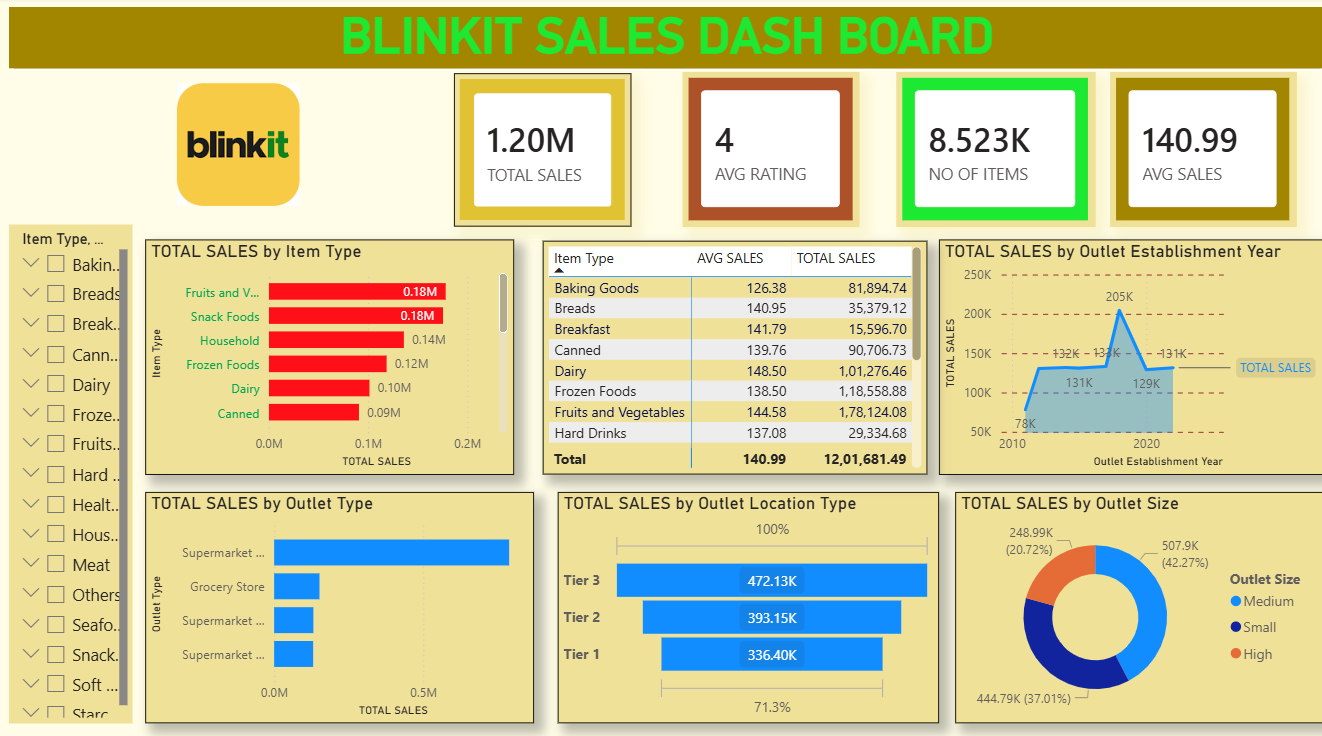

The dashboard page shown, as its layout file describes it:
{"tool":"powerbi","page":{"name":"Page 1","canvas":[1280,720],"ordinal":0},"visuals":[{"type":"textbox","title":" BLINKIT SALES DASH  BOARD","box":[9.7,9.7,1270.4,61.5],"z":0},{"type":"image","box":[22.9,83.2,416.2,118.2],"z":1000},{"type":"cardVisual","fields":{"Data":["BlinkIT Grocery Data.AVG SALES"]},"box":[1072.5,72.4,179.8,149.6],"z":2000},{"type":"cardVisual","fields":{"Data":["BlinkIT Grocery Data.AVG RATING"]},"box":[659.9,72.4,170.1,149.6],"z":3000},{"type":"cardVisual","fields":{"Data":["BlinkIT Grocery Data.NO OF ITEMS"]},"box":[866.2,72.4,191.8,149.6],"z":4000},{"type":"cardVisual","fields":{"Data":["BlinkIT Grocery Data.TOTAL SALES"]},"box":[439.1,73.6,171.3,148.4],"z":5000},{"type":"clusteredBarChart","fields":{"Category":["BlinkIT Grocery Data.Item Type"],"Y":["BlinkIT Grocery Data.TOTAL SALES"]},"box":[141.2,234,355.9,226.8],"z":6000},{"type":"lineChart","fields":{"Category":["BlinkIT Grocery Data.Outlet Establishment Year"],"Y":["BlinkIT Grocery Data.TOTAL SALES"]},"box":[907.2,234,372.8,226.8],"z":7000},{"type":"barChart","fields":{"Category":["BlinkIT Grocery Data.Outlet Type"],"Y":["BlinkIT Grocery Data.TOTAL SALES"]},"box":[141.2,477.8,375.2,223.2],"z":8000},{"type":"funnel","fields":{"Category":["BlinkIT Grocery Data.Outlet Location Type"],"Y":["BlinkIT Grocery Data.TOTAL SALES"]},"box":[539.3,477.8,368,223.2],"z":9000},{"type":"donutChart","fields":{"Category":["BlinkIT Grocery Data.Outlet Size"],"Y":["BlinkIT Grocery Data.TOTAL SALES"]},"box":[922.9,477.8,357.1,223.2],"z":10000},{"type":"slicer","fields":{"Values":["BlinkIT Grocery Data.Item Type","BlinkIT Grocery Data.Outlet Location Type"]},"box":[9.7,219.6,119.4,481.4],"z":11000},{"type":"pivotTable","fields":{"Rows":["BlinkIT Grocery Data.Item Type"],"Values":["BlinkIT Grocery Data.AVG SALES","BlinkIT Grocery Data.TOTAL SALES"]},"box":[524.8,235.3,371.6,225.6],"z":12000}]}

Visuals, with their boxes in screenshot pixels (x1, y1, x2, y2), scaled from the page's 1280x720 canvas onto the 1322x736 screenshot:
" BLINKIT SALES DASH  BOARD" textbox: bbox=[10, 10, 1321, 73]
image: bbox=[24, 85, 454, 206]
cardVisual - BlinkIT Grocery Data.AVG SALES: bbox=[1108, 74, 1293, 227]
cardVisual - BlinkIT Grocery Data.AVG RATING: bbox=[682, 74, 857, 227]
cardVisual - BlinkIT Grocery Data.NO OF ITEMS: bbox=[895, 74, 1093, 227]
cardVisual - BlinkIT Grocery Data.TOTAL SALES: bbox=[454, 75, 630, 227]
clusteredBarChart - BlinkIT Grocery Data.Item Type x BlinkIT Grocery Data.TOTAL SALES: bbox=[146, 239, 513, 471]
lineChart - BlinkIT Grocery Data.Outlet Establishment Year x BlinkIT Grocery Data.TOTAL SALES: bbox=[937, 239, 1321, 471]
barChart - BlinkIT Grocery Data.Outlet Type x BlinkIT Grocery Data.TOTAL SALES: bbox=[146, 488, 533, 717]
funnel - BlinkIT Grocery Data.Outlet Location Type x BlinkIT Grocery Data.TOTAL SALES: bbox=[557, 488, 937, 717]
donutChart - BlinkIT Grocery Data.Outlet Size x BlinkIT Grocery Data.TOTAL SALES: bbox=[953, 488, 1321, 717]
slicer - BlinkIT Grocery Data.Item Type x BlinkIT Grocery Data.Outlet Location Type: bbox=[10, 224, 133, 717]
pivotTable - BlinkIT Grocery Data.Item Type x BlinkIT Grocery Data.AVG SALES: bbox=[542, 241, 926, 471]
